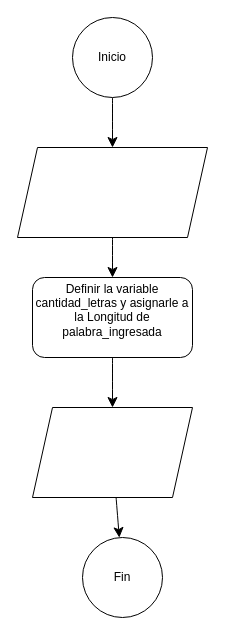
Some shapes in this 225 by 635 pixel diagram are drawn without their labels. Each missing label, with the box of its shape:
Mostrar mensaje: " "La pabraba ingresada tiene", cantidad_letras, "letras": (32, 406, 192, 498)
Mostrar mensaje: " Por favor, ingrese una palabra": (16, 146, 208, 238)
